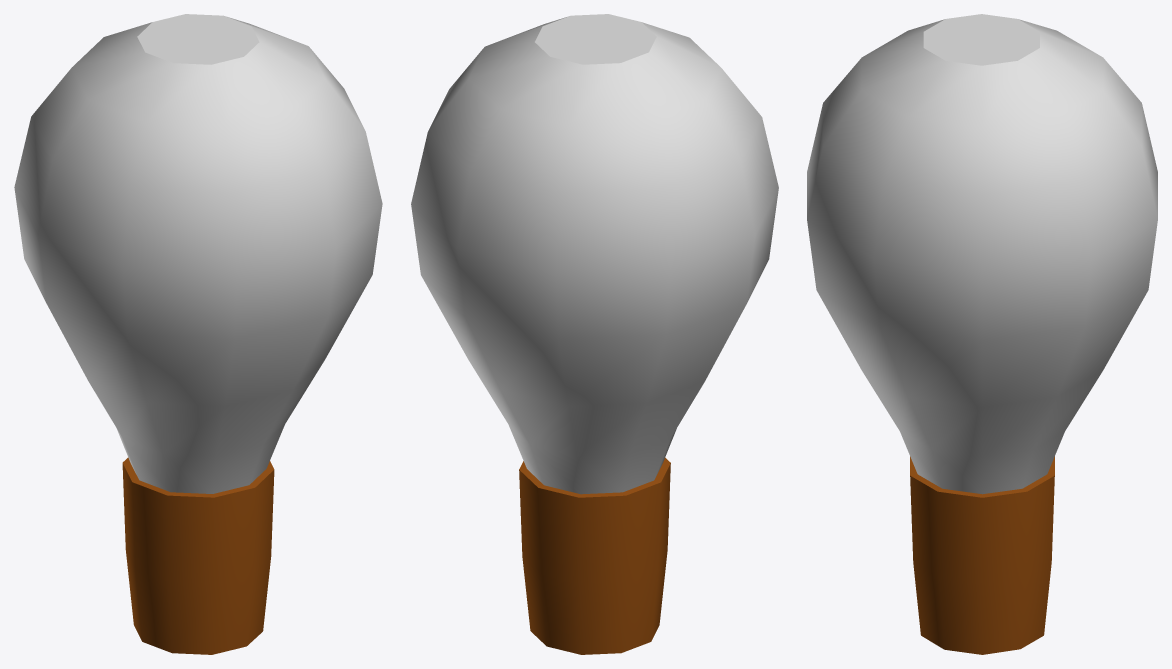
Rendered from Ligthbulb.FBX.
3 views of the same model, side by side, from view 1: azimuth 30°, elevation 25°; view 2: azimuth 150°, elevation 25°; view 3: azimuth 270°, elevation 25° (orthographic).
Visible parts, largest first — view 1: Light Bulb; view 2: Light Bulb; view 3: Light Bulb.
Part boxes in pixels (box(x1,y1,x2,y2)): Light Bulb: box(14, 14, 382, 654); Light Bulb: box(411, 14, 778, 654); Light Bulb: box(807, 14, 1157, 654).
Bounding box in the file's own units: 18.57 × 32.64 × 17.67.
